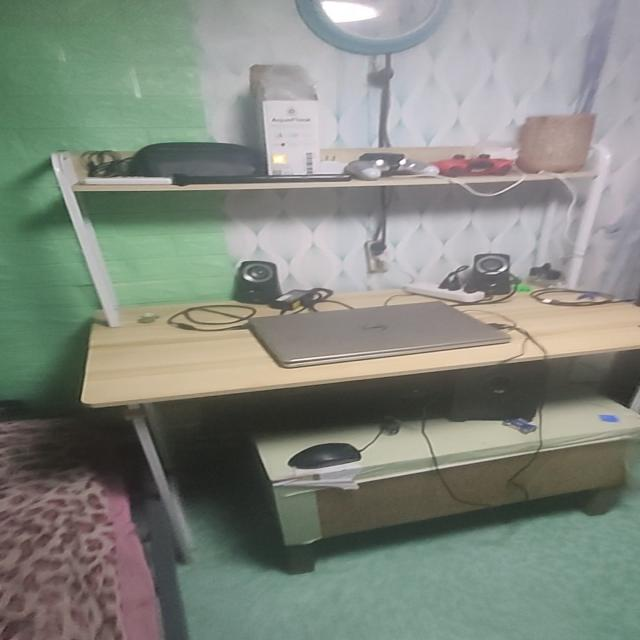table: (60, 267, 640, 568)
